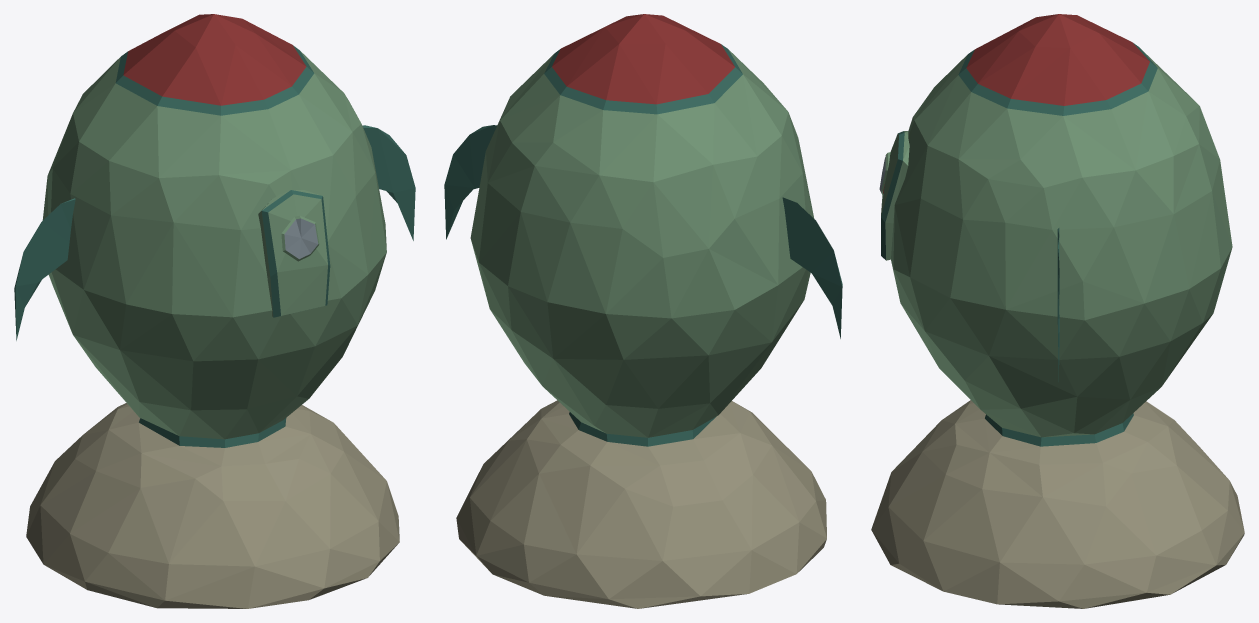
Rendered from ship.fbx.
The picture shows the model from 3 angles, left to right: view 1: azimuth 30°, elevation 25°; view 2: azimuth 150°, elevation 25°; view 3: azimuth 270°, elevation 25°; orthographic projection.
Visible parts, largest first — view 1: Ship; view 2: Ship; view 3: Ship.
Part boxes in pixels (bbox=[...]): Ship: bbox=[14, 14, 415, 608]; Ship: bbox=[444, 14, 842, 608]; Ship: bbox=[871, 14, 1244, 608].
Bounding box in the file's own units: 116 × 145 × 93.77.
